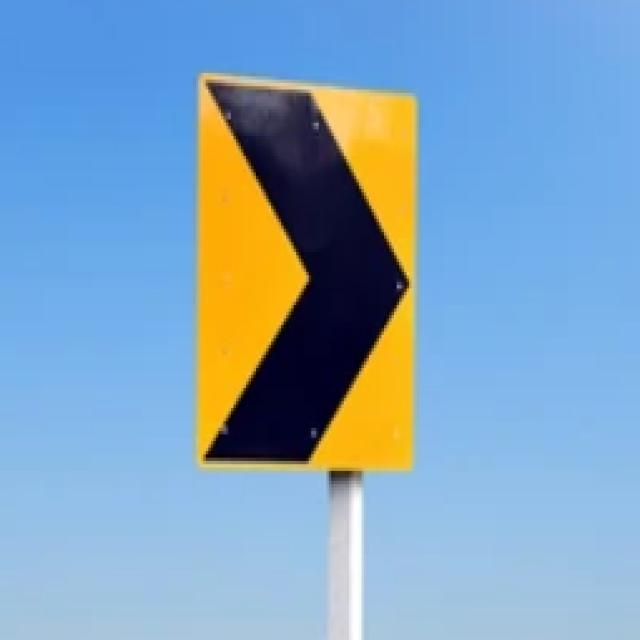DIRECTION: (194, 67, 414, 480)
